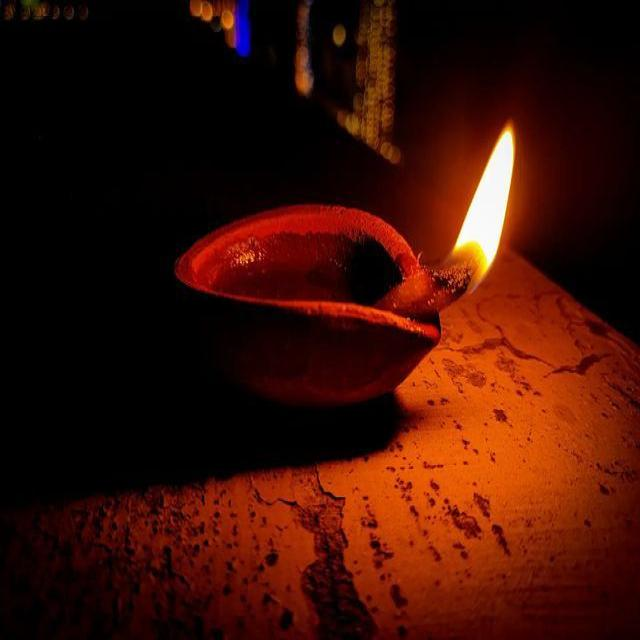fire: (454, 119, 517, 294)
